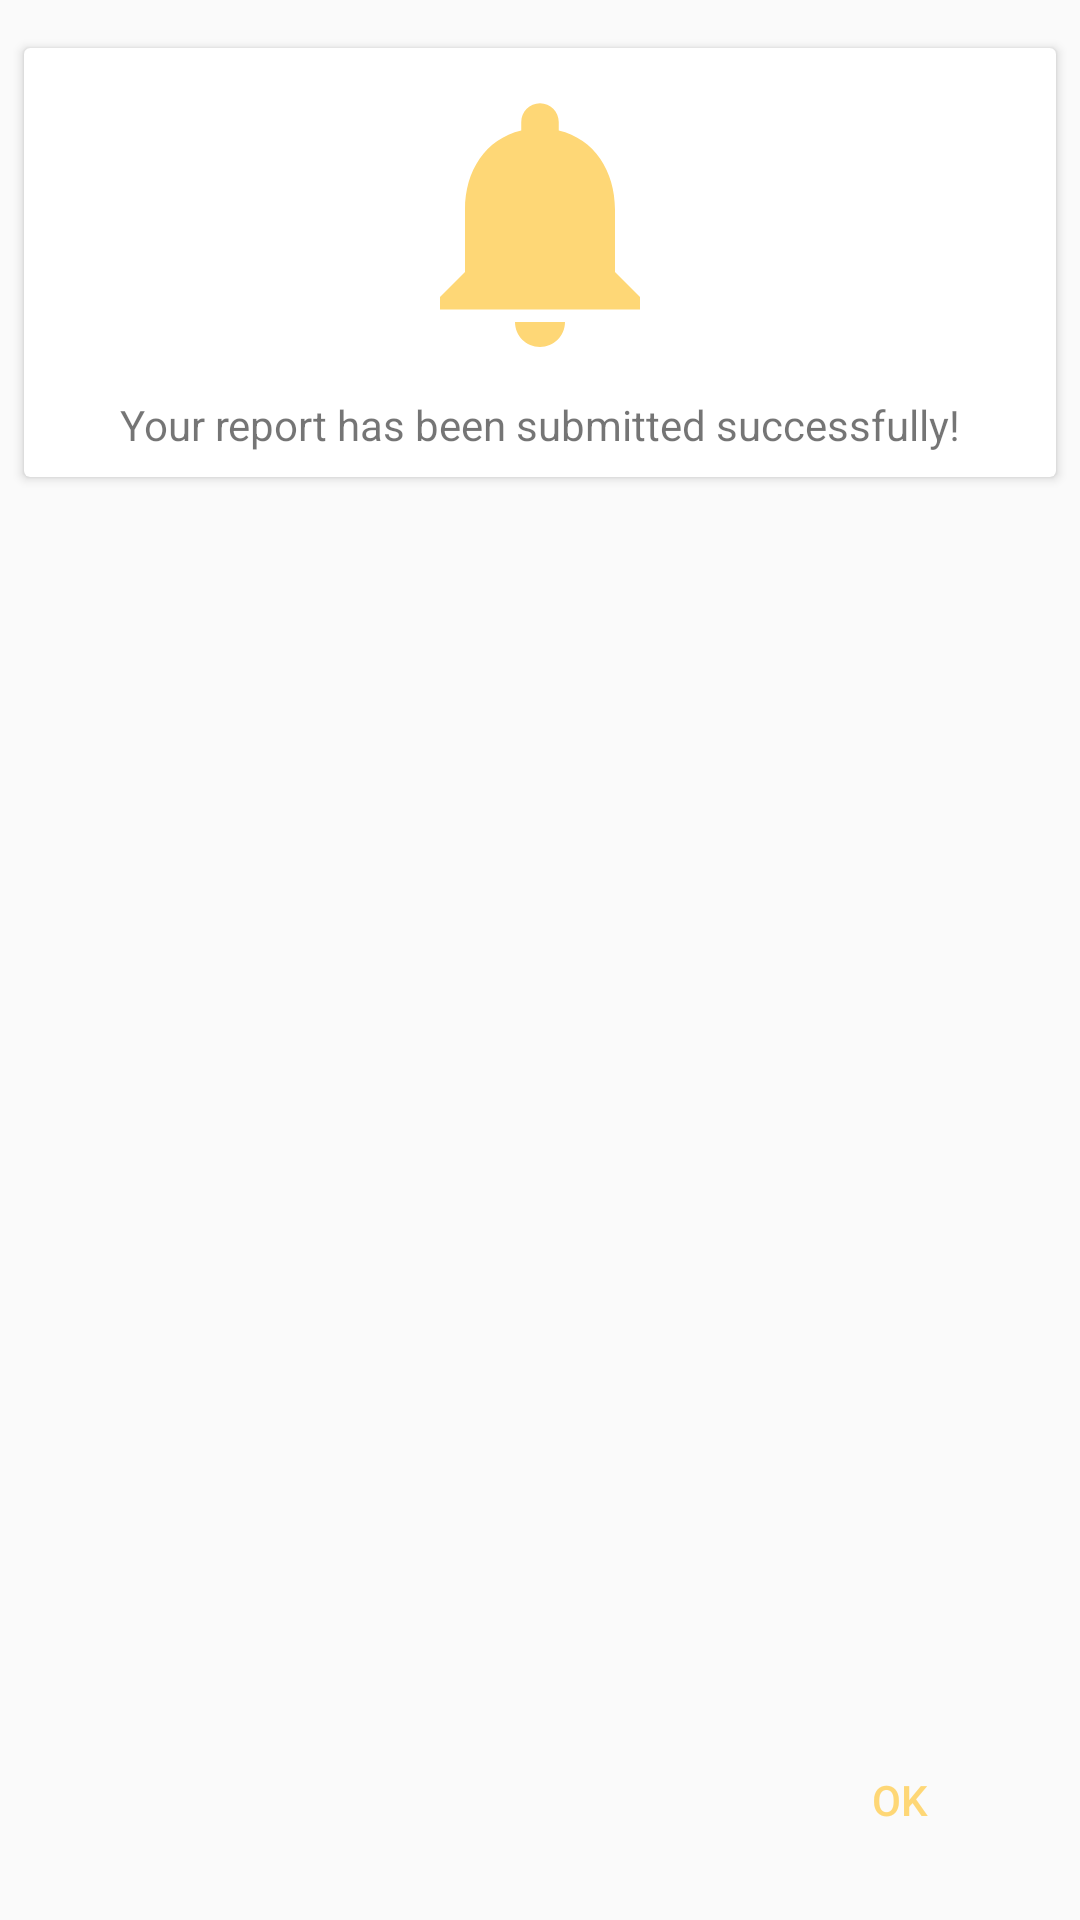

Icons on this 1080px×1920px Android screen, each with the point to tap as point (x, y):
notifications: point (540, 225)
